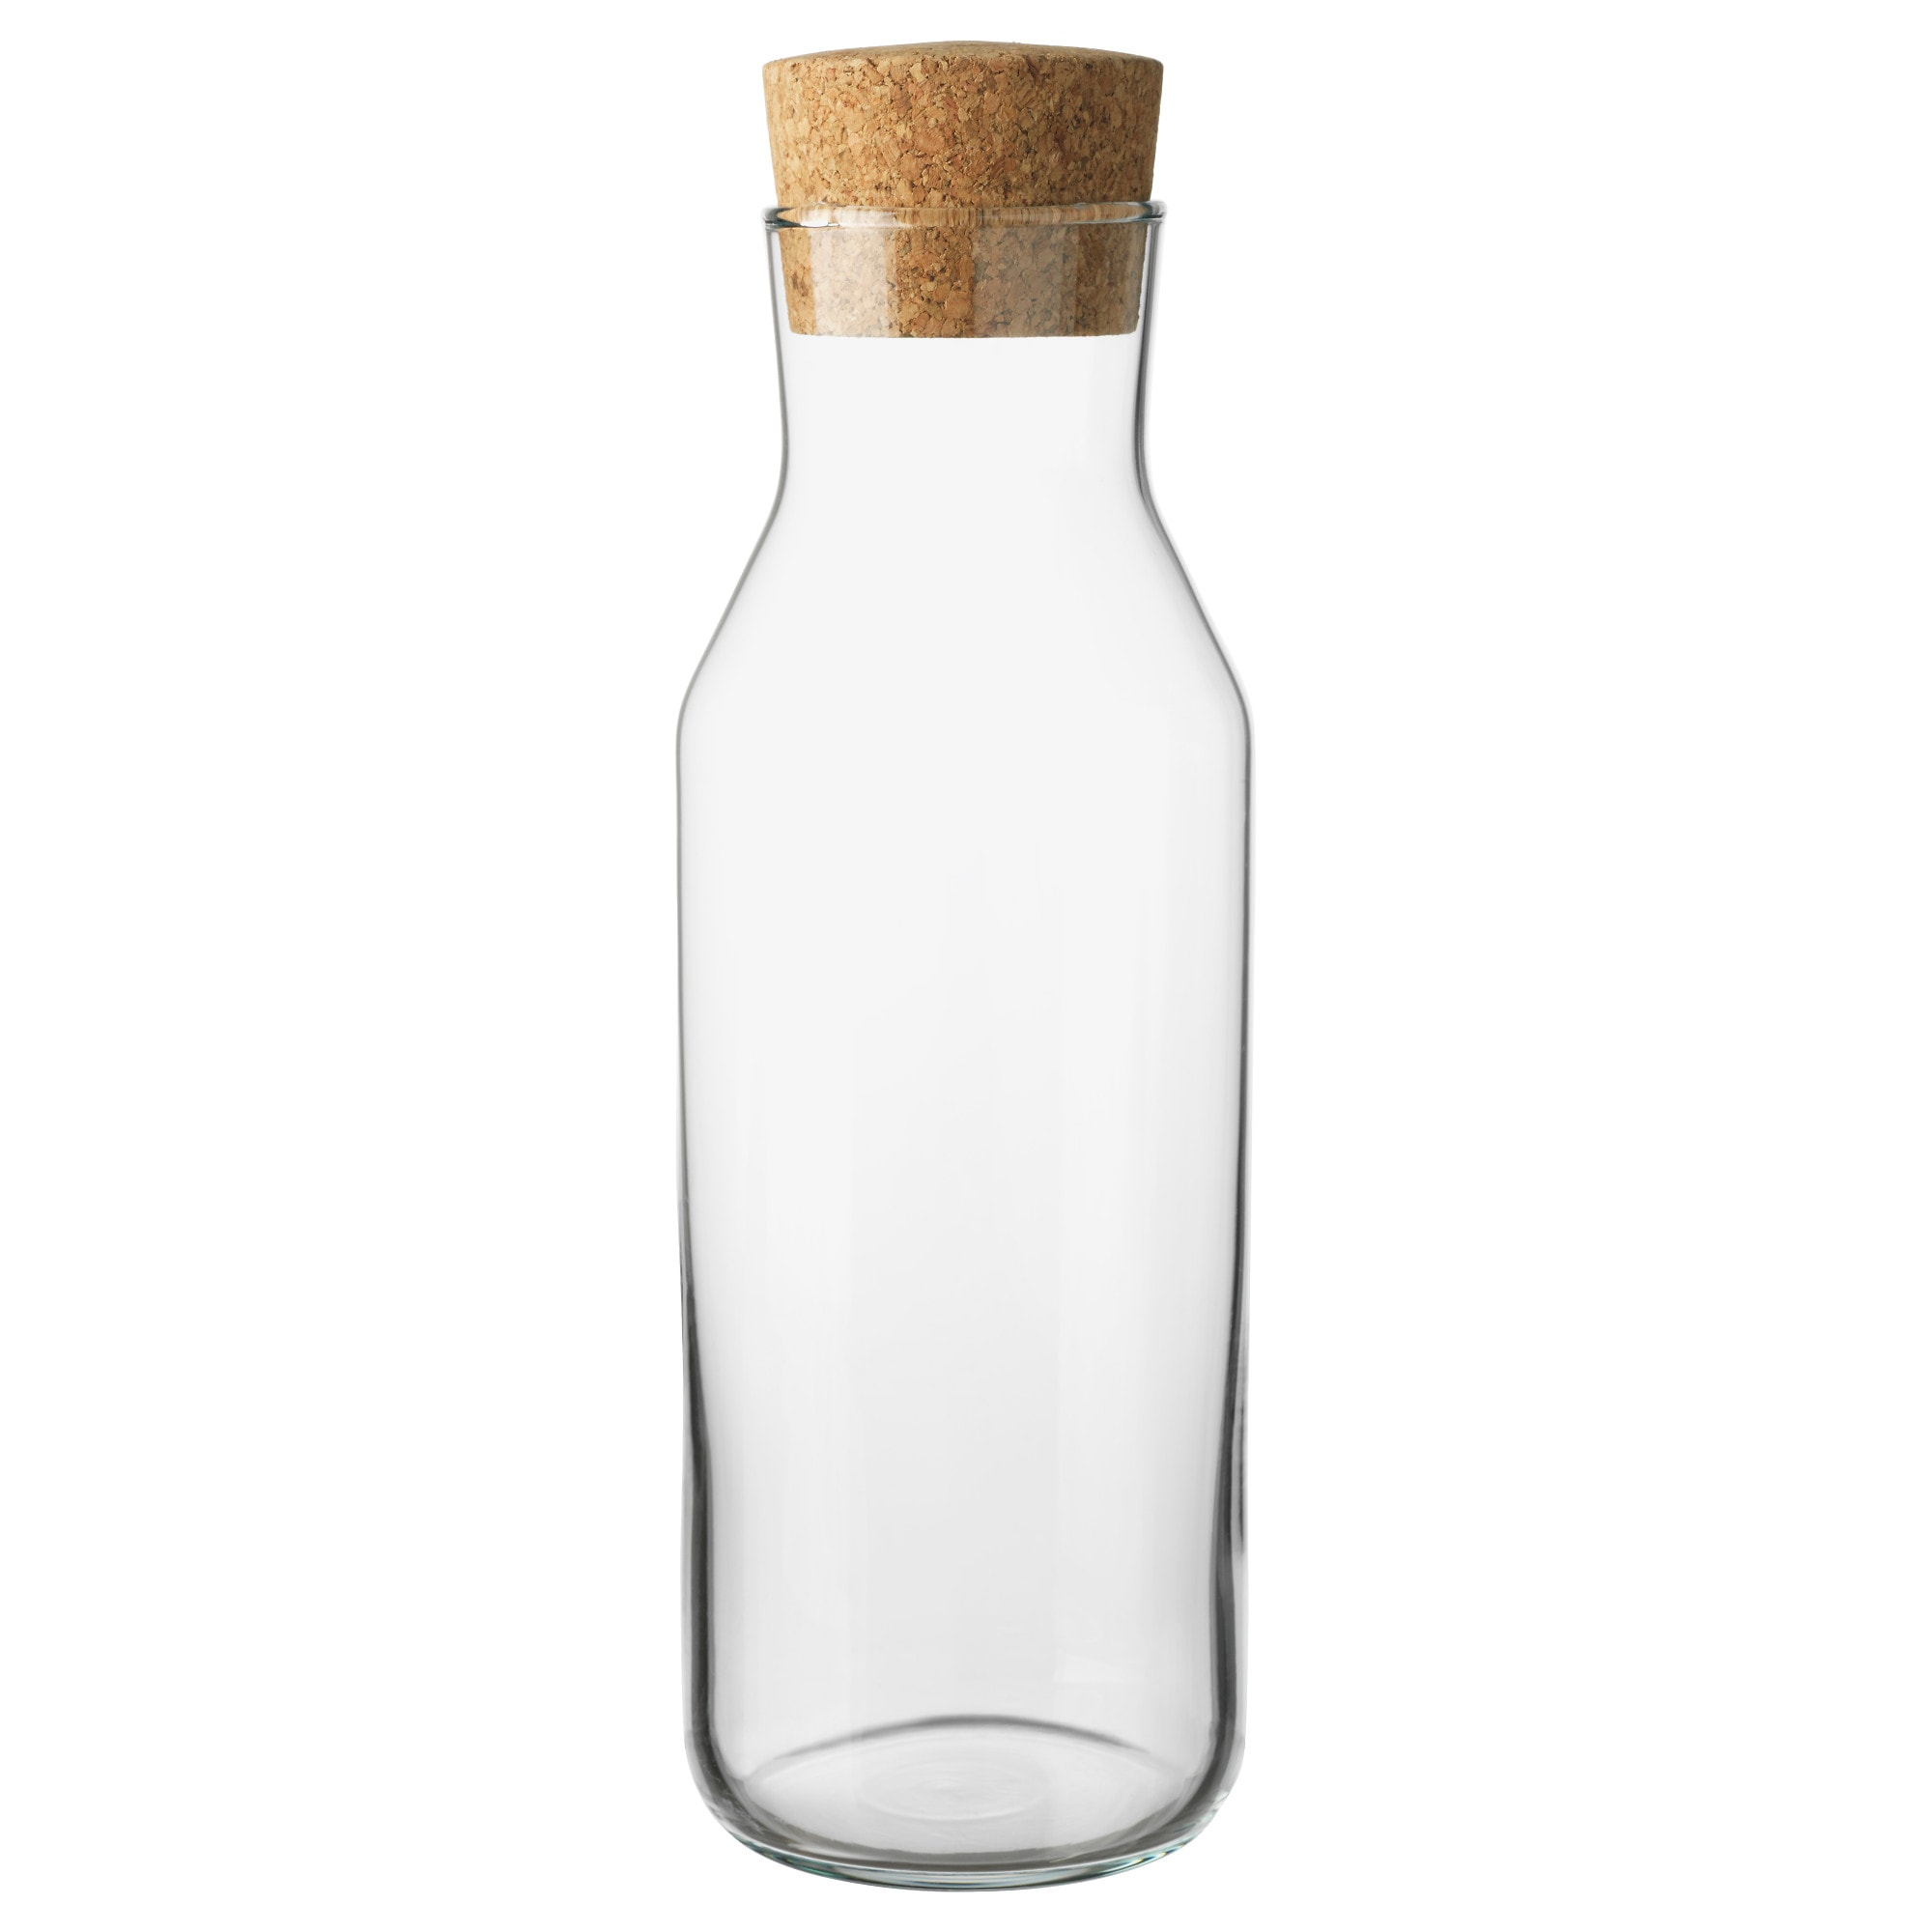glass of water: (637, 90, 1364, 1898)
